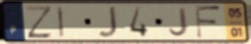4: (128, 5, 152, 39)
F: (193, 4, 224, 40)
I: (56, 6, 66, 39)
J: (96, 5, 119, 39), (168, 7, 190, 38)
Z: (23, 4, 55, 40)
